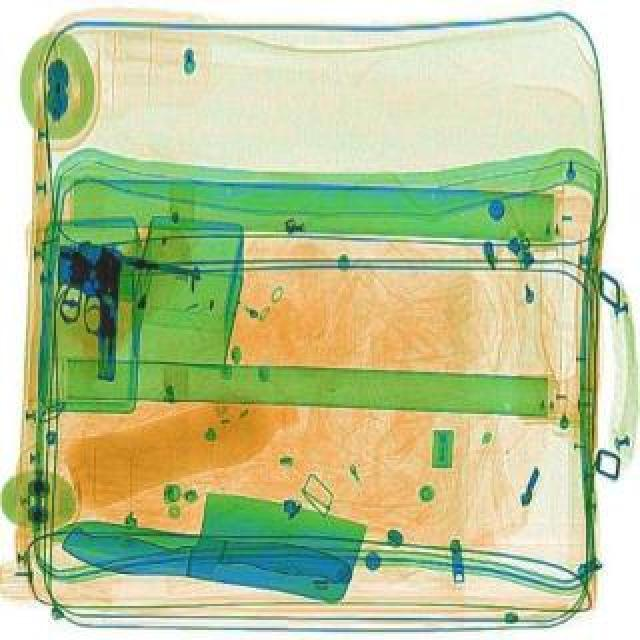gun: (54, 236, 204, 340), (52, 238, 120, 378)
knife: (58, 468, 366, 604), (46, 506, 354, 592)
